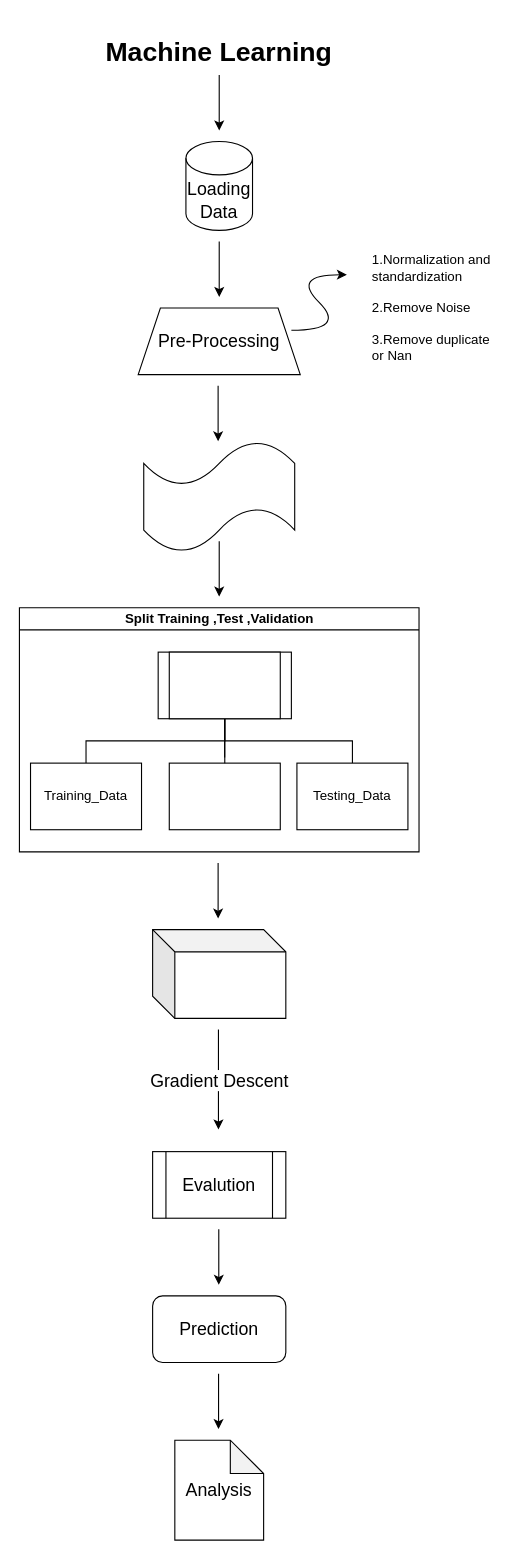
Some shapes in this 523 by 1560 pixel diagram are drawn without their labels. The centre of each missing label's shape, as x and y in pixels:
Building Model: point (219, 973)
Data: point (224, 685)
Feature-Extractor: point (219, 496)
Validation_Data: point (224, 796)
